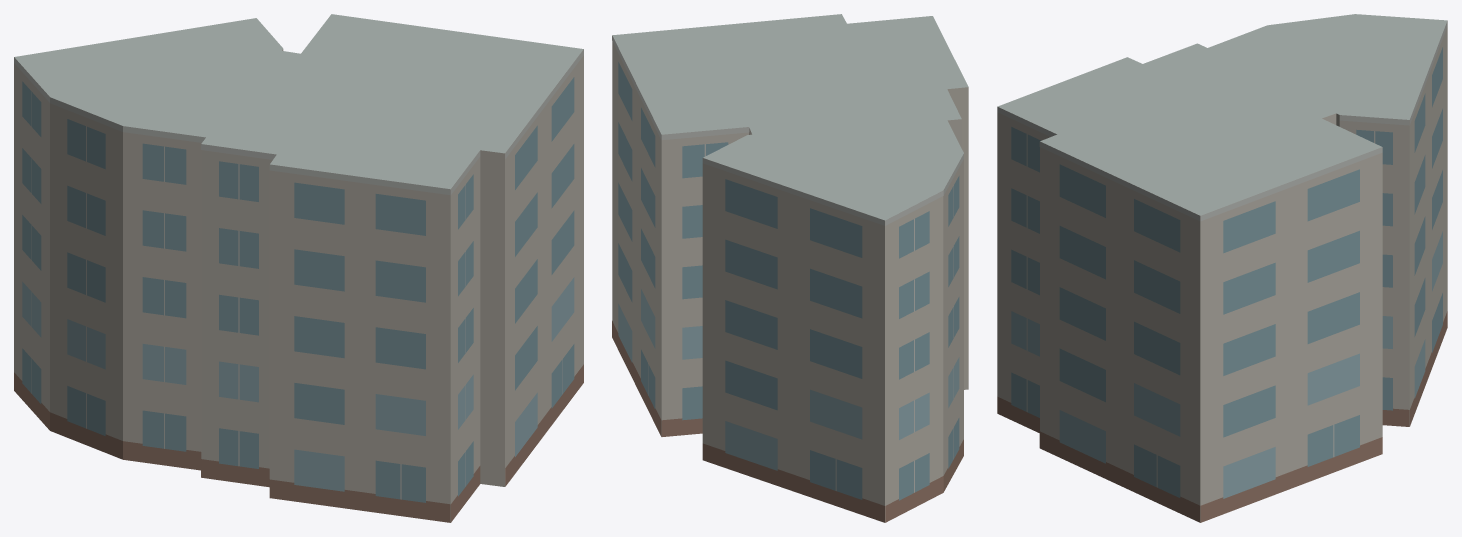
File: survey-upis-32968561.glb
3 renders of one model, left to right at view 1: azimuth 30°, elevation 25°; view 2: azimuth 150°, elevation 25°; view 3: azimuth 270°, elevation 25°, orthographic. The views are drawn at different scales.
Parts seen in each view (by area): view 1: survey-upis-32968561.tmp; view 2: survey-upis-32968561.tmp; view 3: survey-upis-32968561.tmp.
Boxes of the visible parts, x1,y1,x2,y2 form: survey-upis-32968561.tmp: (14, 14, 583, 522); survey-upis-32968561.tmp: (612, 14, 968, 522); survey-upis-32968561.tmp: (997, 14, 1447, 522).
Size of the model in its own units: 18.97 by 13.45 by 17.88.
